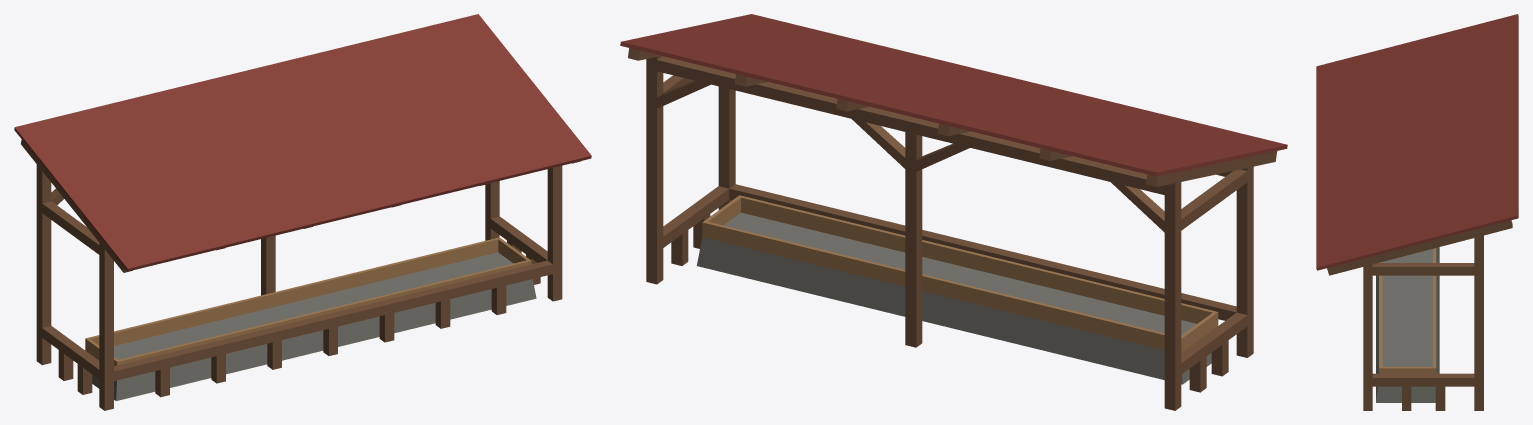
The model's file is feedingstation.glb.
3 views of the same model, side by side, from view 1: azimuth 30°, elevation 25°; view 2: azimuth 150°, elevation 25°; view 3: azimuth 270°, elevation 25° (orthographic). The views are drawn at different scales.
Visible parts, largest first — view 1: Cube.038; view 2: Cube.038; view 3: Cube.038.
Boxes of the visible parts, x1=… form: Cube.038: x1=14, y1=14, x2=591, y2=410; Cube.038: x1=620, y1=14, x2=1287, y2=410; Cube.038: x1=1316, y1=14, x2=1518, y2=410.
Size of what is drawn, in the model's own units: 15 by 6.83 by 6.37.
